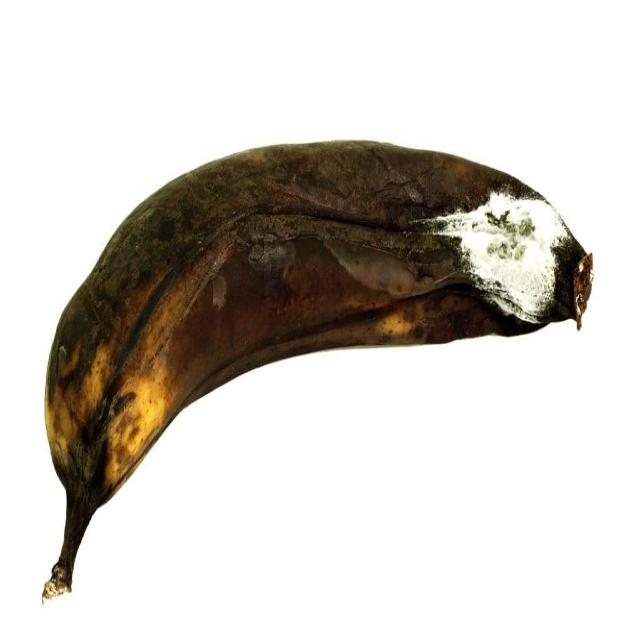Wet Waste: (41, 138, 595, 602)
